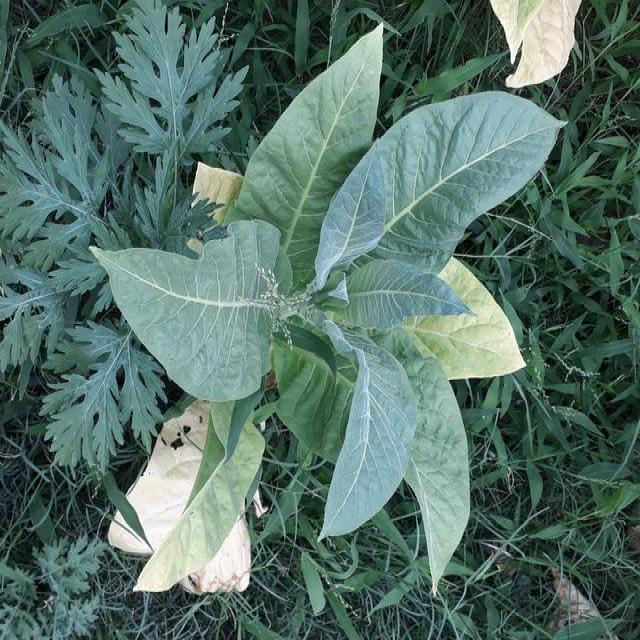crop: (116, 58, 544, 578), (487, 0, 578, 87)
